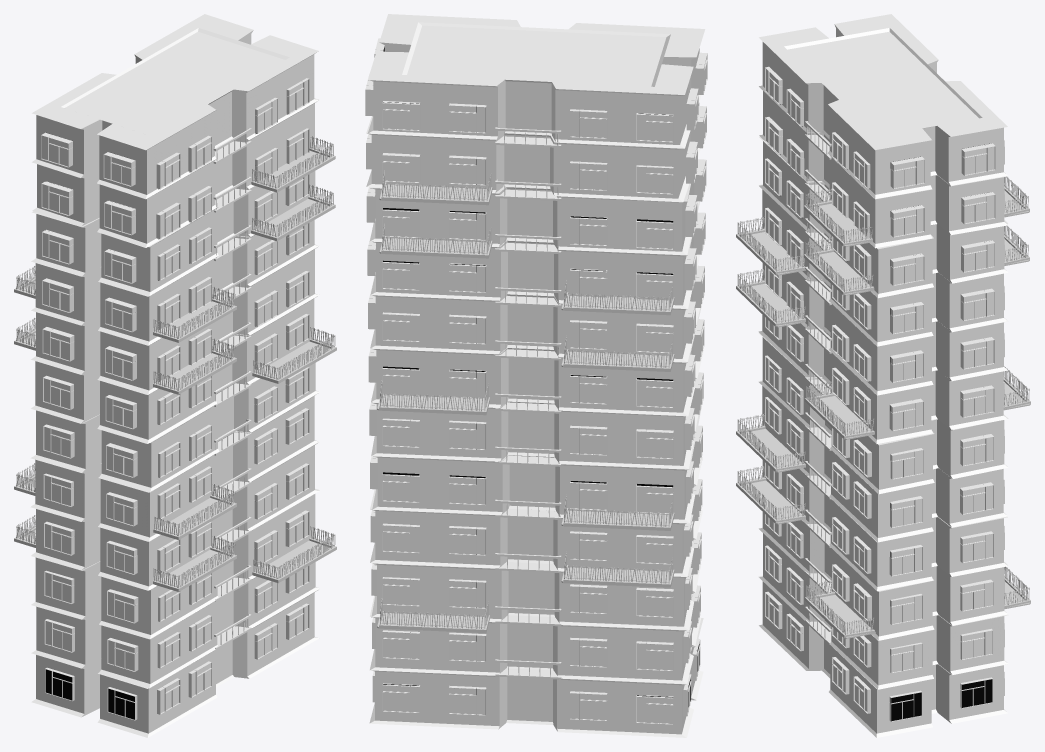
The model's file is building.glb.
3 views of the same model, side by side, from view 1: azimuth 30°, elevation 25°; view 2: azimuth 150°, elevation 25°; view 3: azimuth 270°, elevation 25° (orthographic). The views are drawn at different scales.
Parts seen in each view (by area): view 1: Cube.018; view 2: Cube.018; view 3: Cube.018.
Part boxes in pixels (left/top/right/bottom): Cube.018: left=14, top=14, right=336, bottom=737; Cube.018: left=365, top=14, right=707, bottom=737; Cube.018: left=736, top=14, right=1030, bottom=737.
Bounding box in the file's own units: 20.67 × 40.69 × 18.52.
4 materials, 1 textured.
